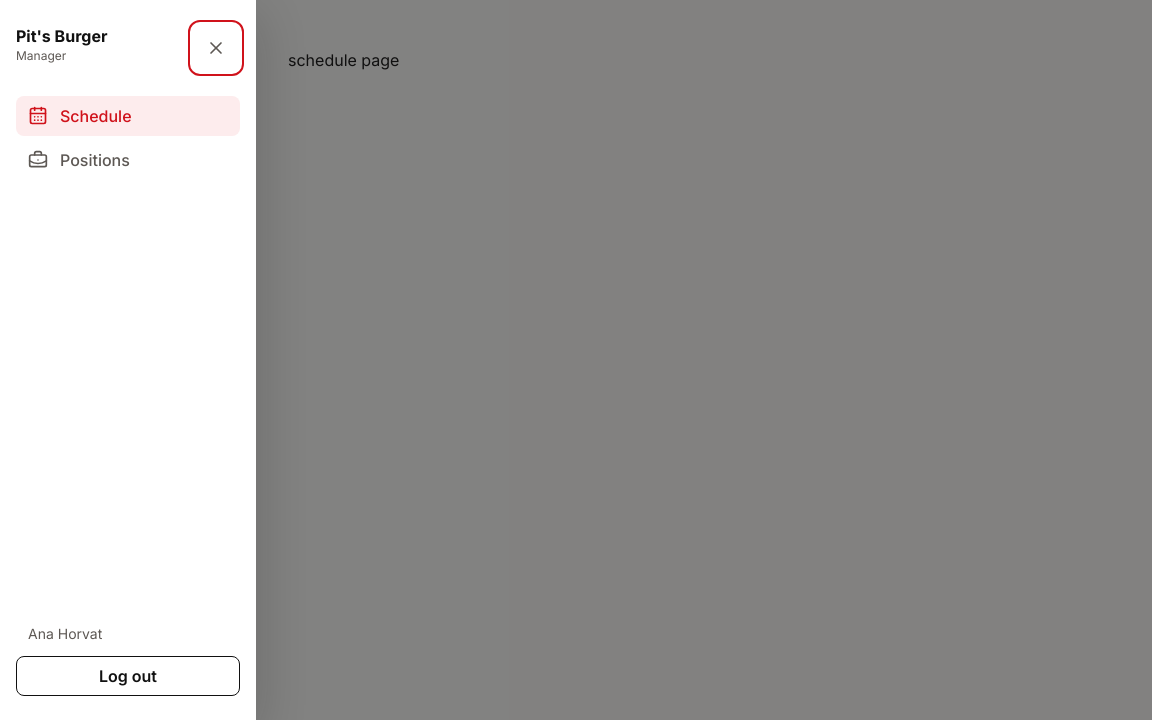
Test case: DashboardLayout › menu on small screens › closes with its close button
Earlier steps of the test are not shown.
Click the button named "Close menu" at (216, 48), box left=192, top=24, right=240, bottom=72
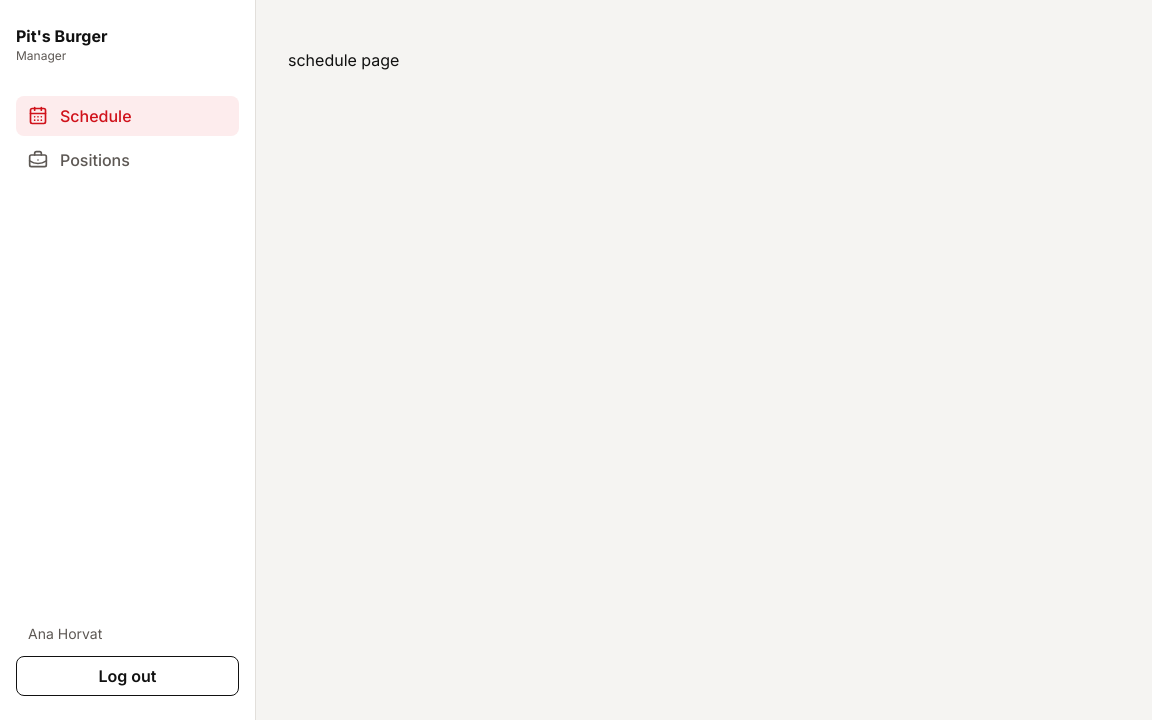
Expected: the text "schedule page" is shown, left=288, top=50, right=399, bottom=70
Expected: the dialog is gone
